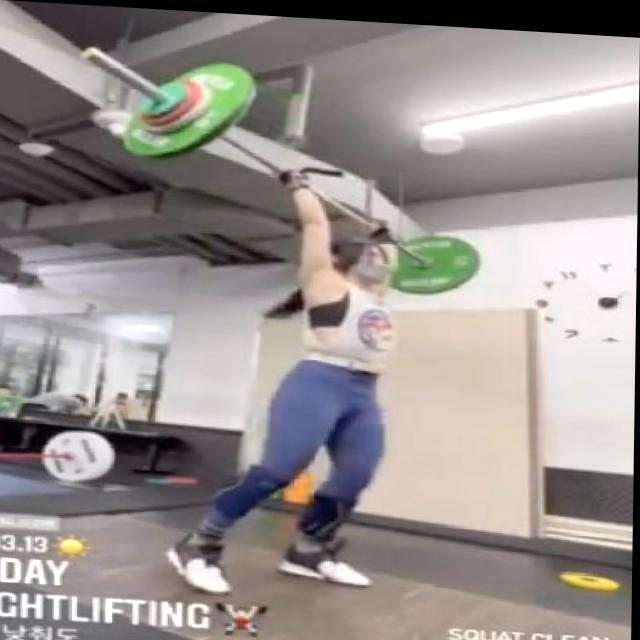barbell: (71, 40, 258, 162)
